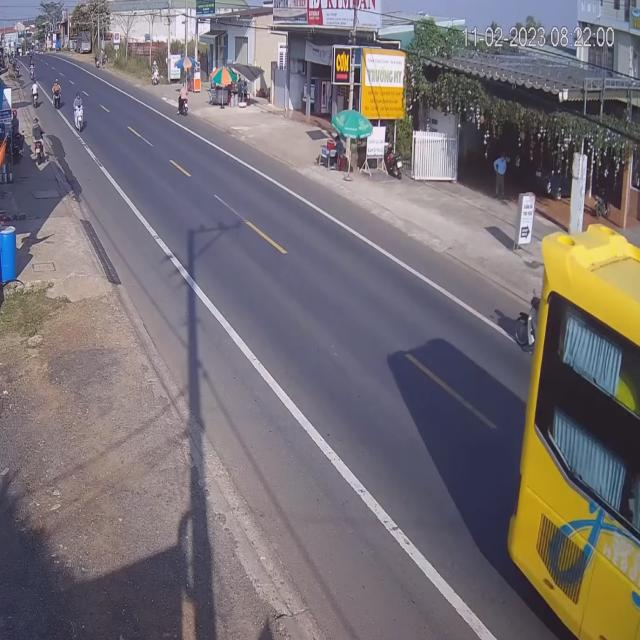bus: (529, 223, 636, 630)
motorbike: (73, 92, 87, 136), (53, 77, 64, 111), (180, 83, 191, 114)
